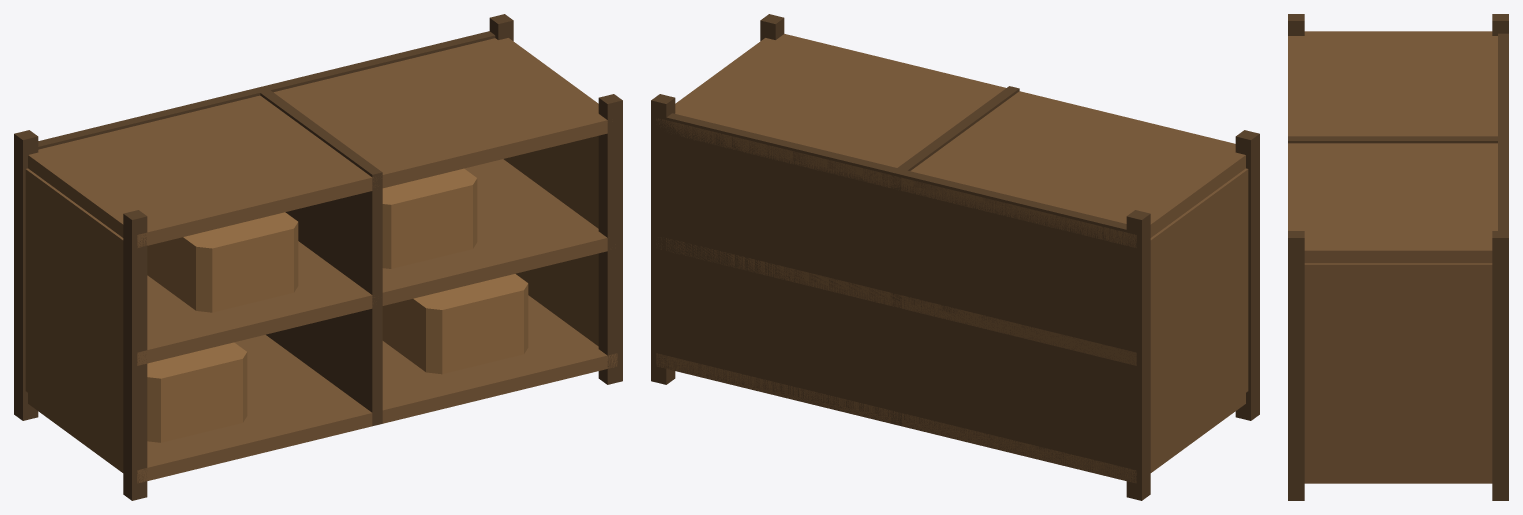
File: vfem2_autofill_shelf.obj
The picture shows the model from 3 angles, left to right: view 1: azimuth 30°, elevation 25°; view 2: azimuth 150°, elevation 25°; view 3: azimuth 270°, elevation 25°; orthographic projection. The views are drawn at different scales.
Visible parts, largest first — view 1: vfem2_autofill_shelf; view 2: vfem2_autofill_shelf; view 3: vfem2_autofill_shelf.
Part boxes in pixels (x1,y1,x2,y2): vfem2_autofill_shelf: (14,14,622,500); vfem2_autofill_shelf: (651,14,1259,500); vfem2_autofill_shelf: (1288,14,1508,500).
Bounding box in the file's own units: 1.92 × 1.05 × 0.8.
